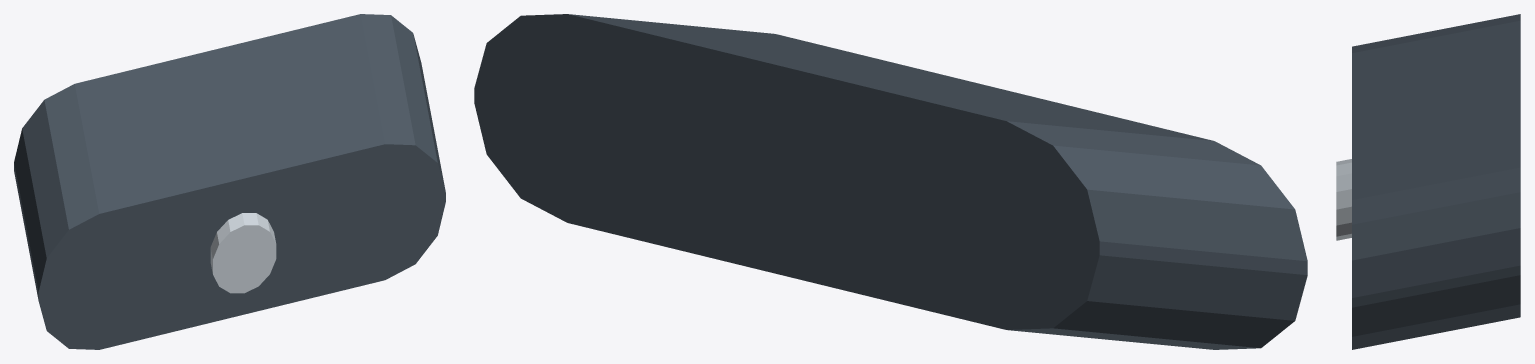
File: Edge_ShutterH.gltf
3 renders of one model, left to right at view 1: azimuth 30°, elevation 25°; view 2: azimuth 150°, elevation 25°; view 3: azimuth 270°, elevation 25°, orthographic. The views are drawn at different scales.
Visible parts, largest first — view 1: Edge_ShutterH_baked; view 2: Edge_ShutterH_baked; view 3: Edge_ShutterH_baked.
Boxes of the visible parts, x1=… form: Edge_ShutterH_baked: x1=14, y1=14, x2=445, y2=349; Edge_ShutterH_baked: x1=474, y1=14, x2=1307, y2=349; Edge_ShutterH_baked: x1=1336, y1=14, x2=1520, y2=349.
Bounding box in the file's own units: 1.07 × 0.428 × 0.35.
